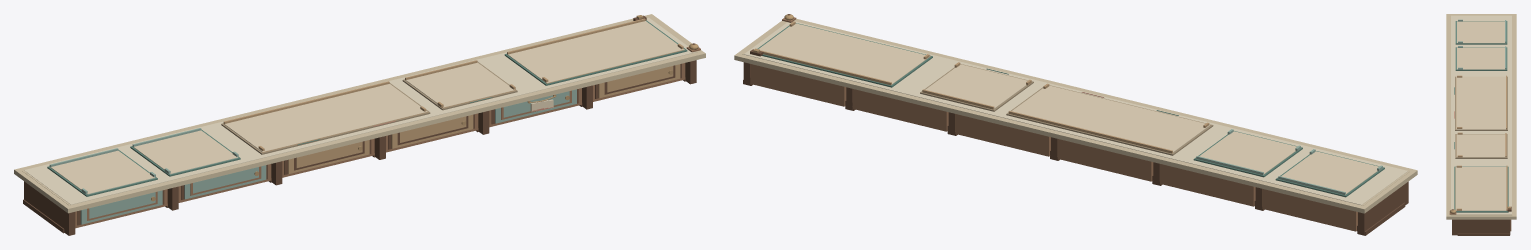
File: park_kitchen_front_prep_table.glb
The picture shows the model from 3 angles, left to right: view 1: azimuth 30°, elevation 25°; view 2: azimuth 150°, elevation 25°; view 3: azimuth 270°, elevation 25°; orthographic projection. The views are drawn at different scales.
Parts seen in each view (by area): view 1: continuous_rounded_stone_top, satin_worktop_center_field, two_course_combo_full_thickness_linen_board, finished_handoff_full_thickness_linen_board, single_dish_buffer_full_thickness_linen_board, left_rice_batter_stock_full_thickness_linen_board, left_spice_oil_stock_full_thickness_linen_board, leg_post_0, cabinet_inset_field_2, cabinet_inset_field_0, cabinet_inset_field_3, cabinet_inset_field_5 (+19 smaller); view 2: continuous_rounded_stone_top, satin_worktop_center_field, two_course_combo_full_thickness_linen_board, finished_handoff_full_thickness_linen_board, single_dish_buffer_full_thickness_linen_board, left_spice_oil_stock_full_thickness_linen_board, left_rice_batter_stock_full_thickness_linen_board, separate_cabinet_bay_5, separate_cabinet_bay_2, separate_cabinet_bay_3, separate_cabinet_bay_0, separate_cabinet_bay_1 (+9 smaller); view 3: satin_worktop_center_field, two_course_combo_full_thickness_linen_board, continuous_rounded_stone_top, finished_handoff_full_thickness_linen_board, single_dish_buffer_full_thickness_linen_board, left_rice_batter_stock_full_thickness_linen_board, left_spice_oil_stock_full_thickness_linen_board, leg_post_6, finished_handoff_dark_separation_edge, single_dish_buffer_dark_separation_edge, left_rice_batter_stock_dark_separation_edge, left_spice_oil_stock_dark_separation_edge (+7 smaller).
Part boxes in pixels (bbox=[...]): continuous_rounded_stone_top: bbox=[14, 14, 705, 213]; satin_worktop_center_field: bbox=[24, 17, 695, 204]; two_course_combo_full_thickness_linen_board: bbox=[224, 84, 427, 151]; finished_handoff_full_thickness_linen_board: bbox=[507, 21, 684, 82]; single_dish_buffer_full_thickness_linen_board: bbox=[405, 62, 514, 107]; left_rice_batter_stock_full_thickness_linen_board: bbox=[50, 150, 154, 194]; left_spice_oil_stock_full_thickness_linen_board: bbox=[133, 130, 237, 173]; leg_post_0: bbox=[24, 181, 75, 235]; cabinet_inset_field_2: bbox=[296, 141, 362, 168]; cabinet_inset_field_0: bbox=[89, 192, 155, 218]; cabinet_inset_field_3: bbox=[400, 116, 466, 142]; cabinet_inset_field_5: bbox=[607, 66, 673, 92]; continuous_rounded_stone_top: bbox=[734, 19, 1417, 213]; satin_worktop_center_field: bbox=[744, 21, 1407, 204]; two_course_combo_full_thickness_linen_board: bbox=[1012, 85, 1210, 152]; finished_handoff_full_thickness_linen_board: bbox=[758, 23, 930, 84]; single_dish_buffer_full_thickness_linen_board: bbox=[925, 64, 1027, 108]; left_spice_oil_stock_full_thickness_linen_board: bbox=[1199, 131, 1296, 174]; left_rice_batter_stock_full_thickness_linen_board: bbox=[1281, 151, 1378, 194]; separate_cabinet_bay_5: bbox=[750, 64, 846, 106]; separate_cabinet_bay_2: bbox=[1057, 139, 1153, 181]; separate_cabinet_bay_3: bbox=[955, 114, 1050, 156]; separate_cabinet_bay_0: bbox=[1262, 189, 1357, 231]; separate_cabinet_bay_1: bbox=[1160, 164, 1255, 206]; satin_worktop_center_field: bbox=[1451, 15, 1511, 214]; two_course_combo_full_thickness_linen_board: bbox=[1456, 76, 1505, 129]; continuous_rounded_stone_top: bbox=[1446, 14, 1516, 219]; finished_handoff_full_thickness_linen_board: bbox=[1455, 167, 1506, 210]; single_dish_buffer_full_thickness_linen_board: bbox=[1456, 134, 1505, 157]; left_rice_batter_stock_full_thickness_linen_board: bbox=[1457, 21, 1505, 43]; left_spice_oil_stock_full_thickness_linen_board: bbox=[1457, 47, 1505, 69]; leg_post_6: bbox=[1452, 219, 1510, 235]; finished_handoff_dark_separation_edge: bbox=[1454, 166, 1508, 212]; single_dish_buffer_dark_separation_edge: bbox=[1455, 134, 1507, 158]; left_rice_batter_stock_dark_separation_edge: bbox=[1455, 21, 1507, 44]; left_spice_oil_stock_dark_separation_edge: bbox=[1455, 47, 1507, 70].
Size of the model in its own units: 14 by 0.8245 by 2.05.
